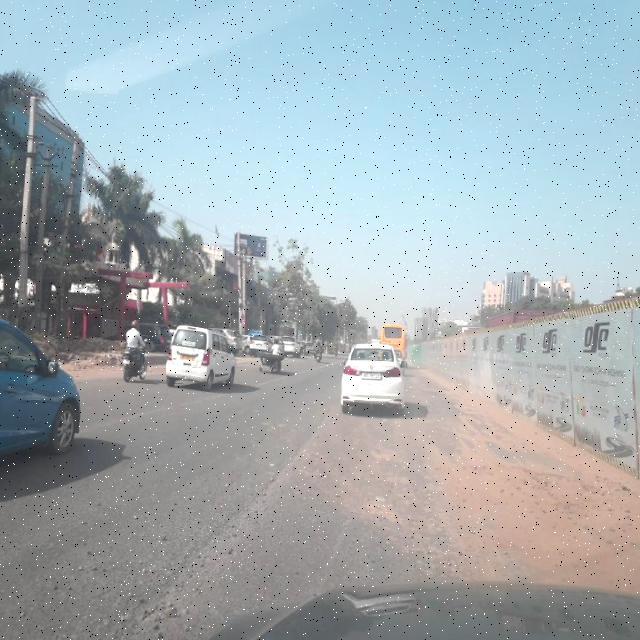D40: (451, 448, 609, 522)
